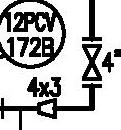instrumenttag: (1, 1, 66, 69)
verticalvalve: (80, 37, 103, 88)
